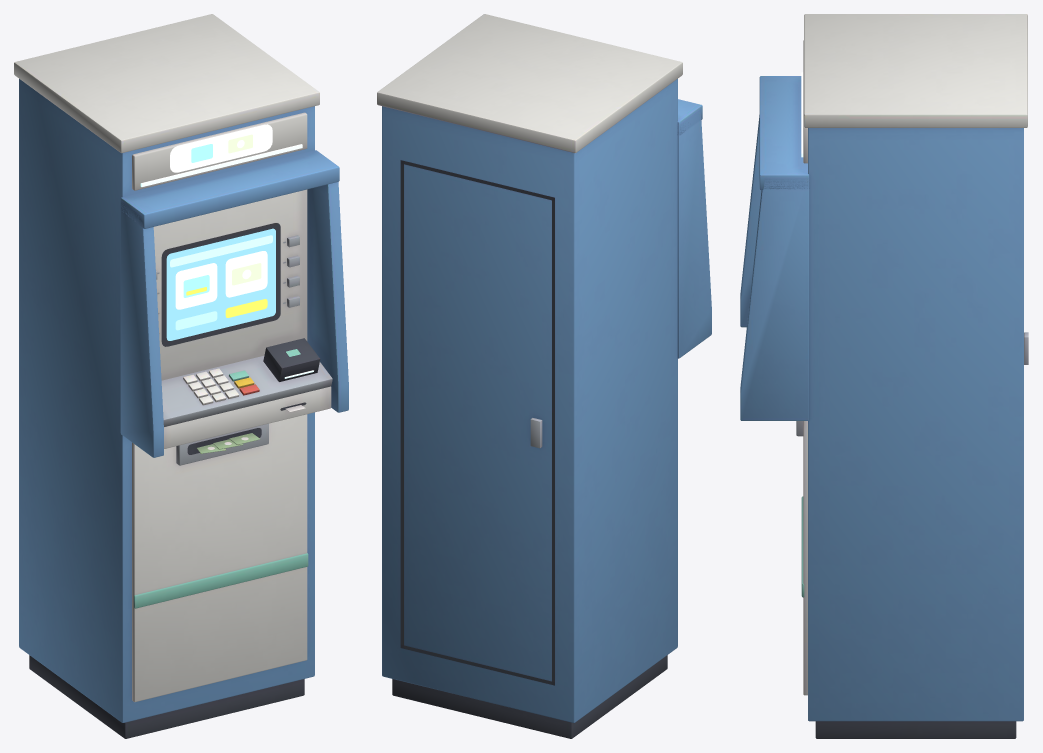
Rendered from atm.glb.
The picture shows the model from 3 angles, left to right: view 1: azimuth 30°, elevation 25°; view 2: azimuth 150°, elevation 25°; view 3: azimuth 270°, elevation 25°; orthographic projection. The views are drawn at different scales.
Parts seen in each view (by area): view 1: atm_body, atm_info_screen, atm_light_glow; view 2: atm_body; view 3: atm_body.
Part boxes in pixels (left/top/right/bottom): atm_body: left=14, top=14, right=348, bottom=738; atm_info_screen: left=166, top=124, right=275, bottom=340; atm_light_glow: left=140, top=144, right=313, bottom=378; atm_body: left=377, top=14, right=711, bottom=738; atm_body: left=740, top=14, right=1028, bottom=738.
Size of the model in its own units: 0.62 by 1.8 by 0.747.
Materials: 11 (1 with a texture image).
